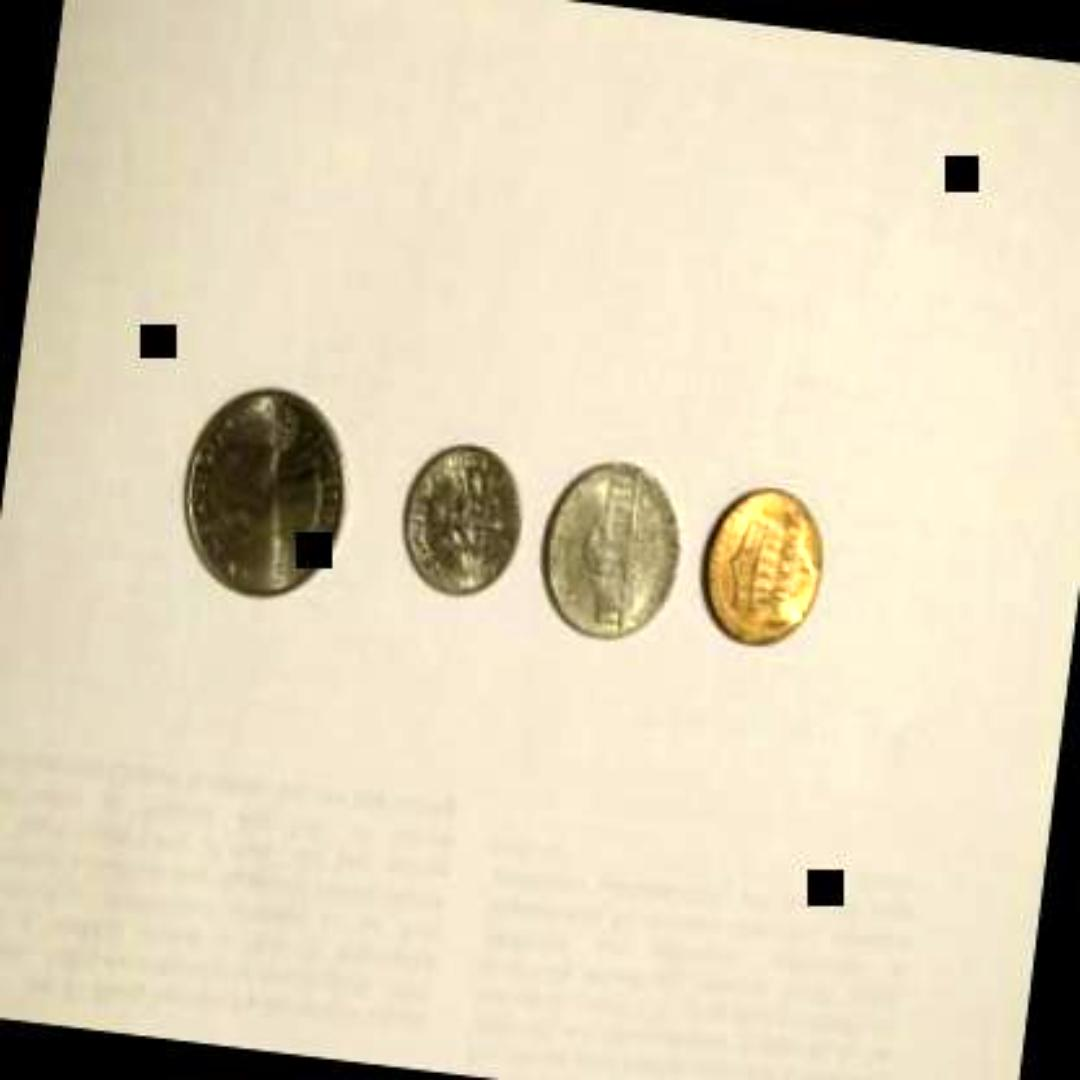Dime: (394, 428, 532, 602)
Nickel: (532, 446, 696, 652)
Penny: (692, 472, 834, 652)
Quarter: (170, 377, 362, 613)
